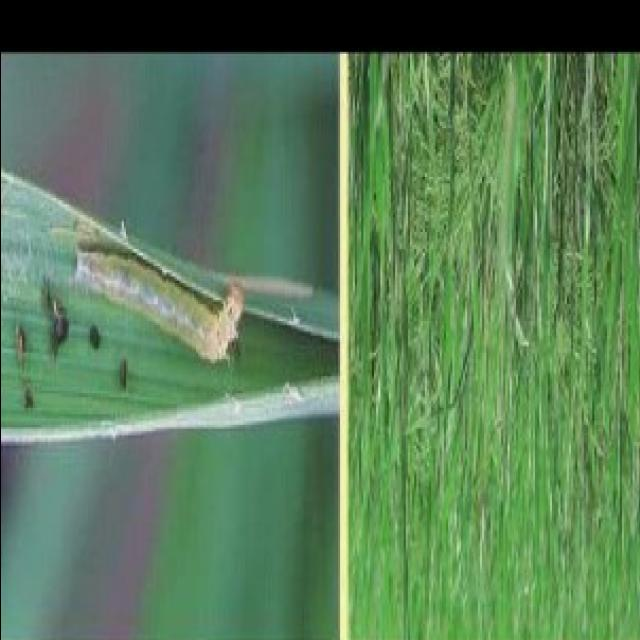rice leaf roller: (76, 250, 244, 362), (42, 284, 70, 360), (17, 328, 25, 371), (89, 326, 102, 350), (25, 375, 34, 409), (121, 360, 125, 388)
